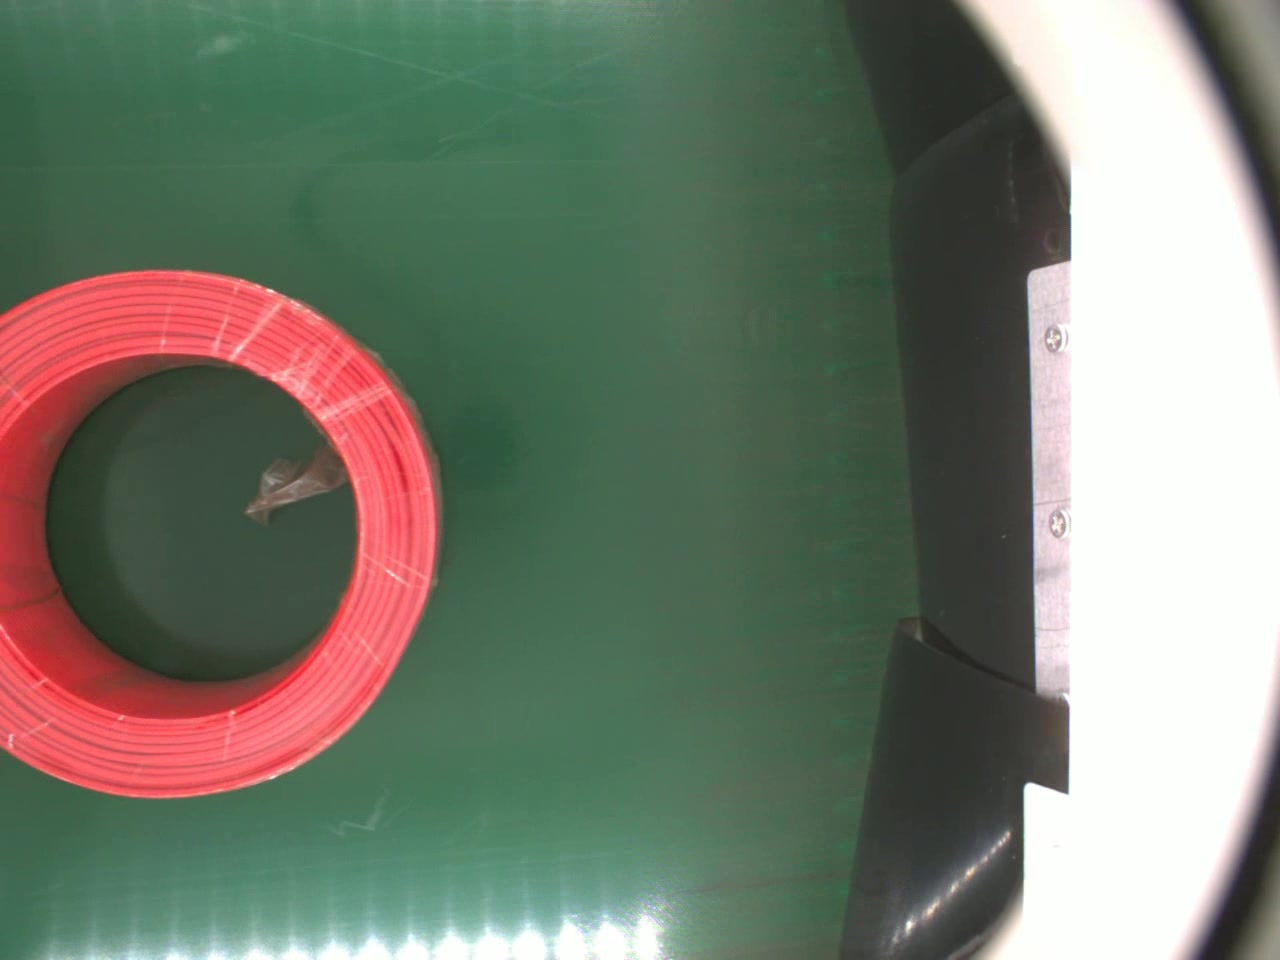red: (0, 265, 445, 804)
